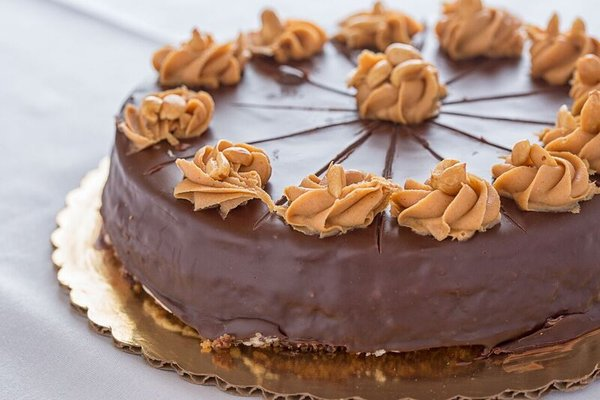sushi: (77, 16, 600, 386)
